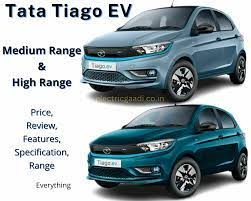Tiago: (82, 3, 248, 102), (83, 103, 249, 198)
